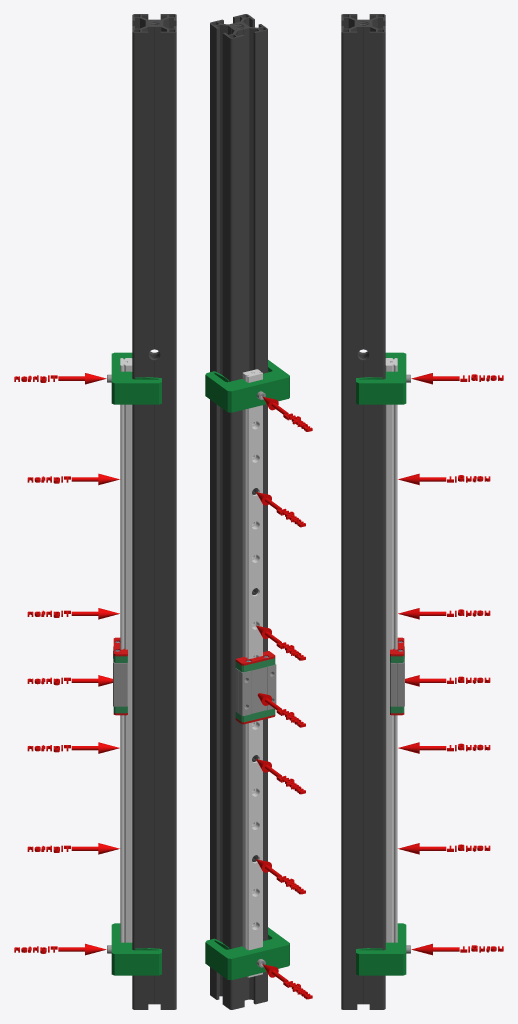
The picture shows the model from 3 angles, left to right: view 1: azimuth 90°, elevation 25°; view 2: azimuth 210°, elevation 25°; view 3: azimuth 270°, elevation 25°; orthographic projection.
Parts seen in each view (by area): view 1: 01_05__XP__Alu_3030_Pillar_Back__V2.0 v25, MGNR12R450HM_FILE_2 v1, 02_47__XP__Fix_MGN12_Rail___V1.0 v005, 02_47__XP__Fix_MGN12_Rail___V1.0 v4, MGN12H, LINEAR GUIDE BLOCK v1; view 2: 01_05__XP__Alu_3030_Pillar_Back__V2.0 v25, MGNR12R450HM_FILE_2 v1, 02_47__XP__Fix_MGN12_Rail___V1.0 v005, 02_47__XP__Fix_MGN12_Rail___V1.0 v4, MGN12H, LINEAR GUIDE BLOCK v1, MGN12H, LINEAR GUIDE BLOCK v002, MGN12H, LINEAR GUIDE BLOCK v003; view 3: 01_05__XP__Alu_3030_Pillar_Back__V2.0 v25, MGNR12R450HM_FILE_2 v1, 02_47__XP__Fix_MGN12_Rail___V1.0 v005, 02_47__XP__Fix_MGN12_Rail___V1.0 v4, MGN12H, LINEAR GUIDE BLOCK v1.
Part boxes in pixels (<box>): 01_05__XP__Alu_3030_Pillar_Back__V2.0 v25: <box>132,14,176,1009</box>; MGNR12R450HM_FILE_2 v1: <box>120,358,132,942</box>; 02_47__XP__Fix_MGN12_Rail___V1.0 v005: <box>111,352,161,404</box>; 02_47__XP__Fix_MGN12_Rail___V1.0 v4: <box>111,923,161,975</box>; MGN12H, LINEAR GUIDE BLOCK v1: <box>113,646,127,706</box>; 01_05__XP__Alu_3030_Pillar_Back__V2.0 v25: <box>210,14,267,1009</box>; MGNR12R450HM_FILE_2 v1: <box>242,369,262,977</box>; 02_47__XP__Fix_MGN12_Rail___V1.0 v005: <box>205,360,289,412</box>; 02_47__XP__Fix_MGN12_Rail___V1.0 v4: <box>205,927,289,980</box>; MGN12H, LINEAR GUIDE BLOCK v1: <box>235,664,276,716</box>; MGN12H, LINEAR GUIDE BLOCK v002: <box>235,657,275,672</box>; MGN12H, LINEAR GUIDE BLOCK v003: <box>235,708,275,722</box>; 01_05__XP__Alu_3030_Pillar_Back__V2.0 v25: <box>341,14,385,1009</box>; MGNR12R450HM_FILE_2 v1: <box>385,358,397,942</box>; 02_47__XP__Fix_MGN12_Rail___V1.0 v005: <box>356,352,406,404</box>; 02_47__XP__Fix_MGN12_Rail___V1.0 v4: <box>356,923,406,975</box>; MGN12H, LINEAR GUIDE BLOCK v1: <box>390,646,404,706</box>.
Size of the model in its own units: 0.049 by 0.7275 by 0.1097.
